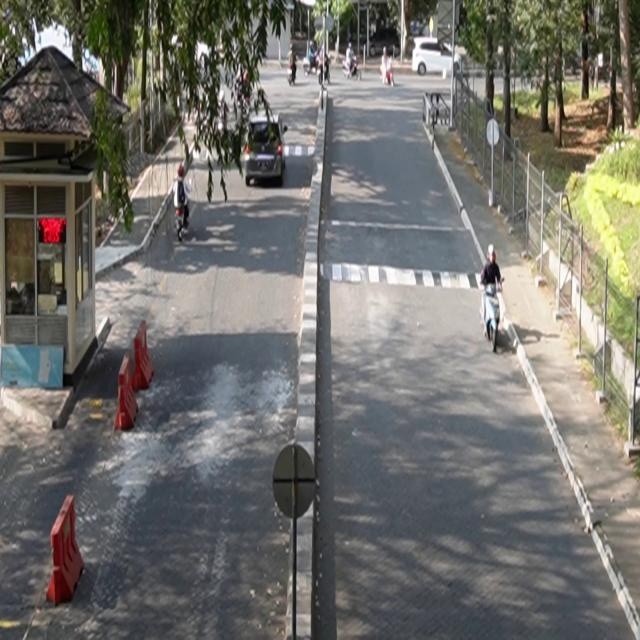car: (245, 114, 289, 187), (413, 39, 464, 79)
